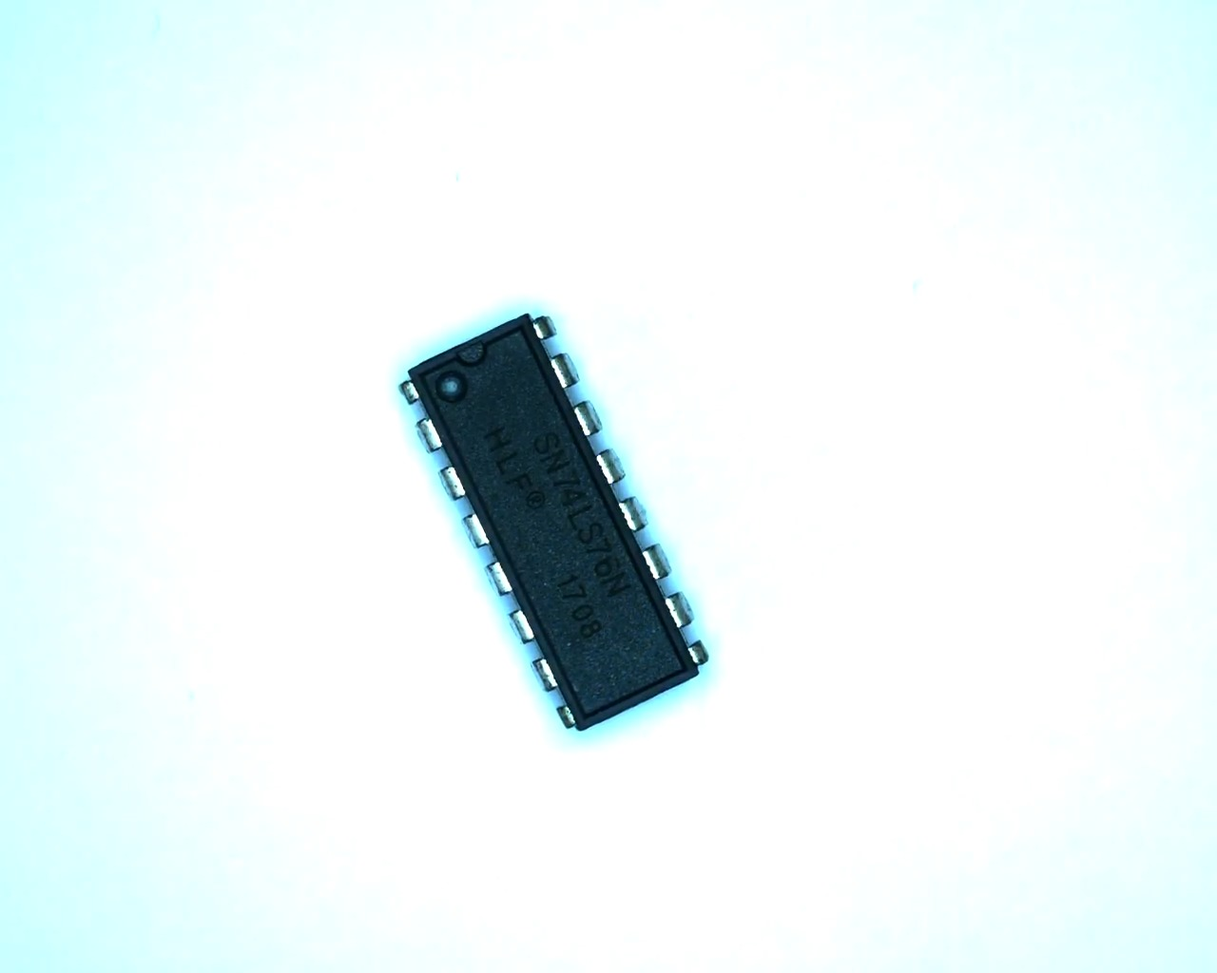IC: (390, 297, 720, 744)
notch: (451, 335, 492, 371)
